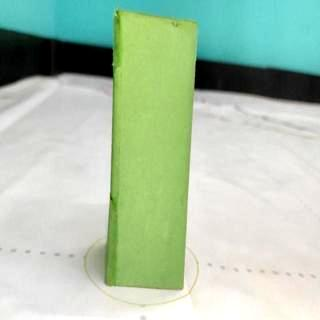greenbox: (105, 8, 201, 292)
